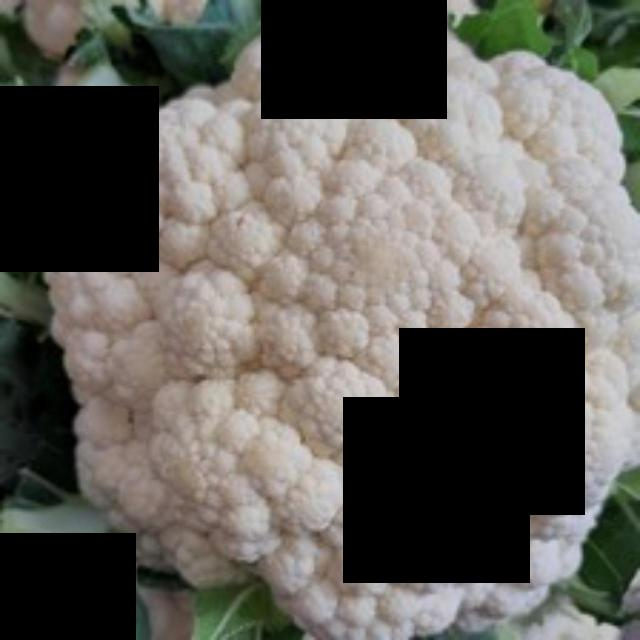cauliflower: (37, 0, 637, 637)
